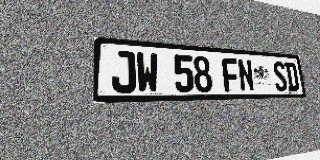5: (173, 54, 195, 92)
8: (193, 56, 213, 92)
D: (284, 62, 300, 91)
F: (221, 58, 240, 92)
J: (111, 50, 136, 93)
N: (237, 59, 255, 92)
S: (272, 61, 288, 91)
W: (136, 52, 159, 93)
